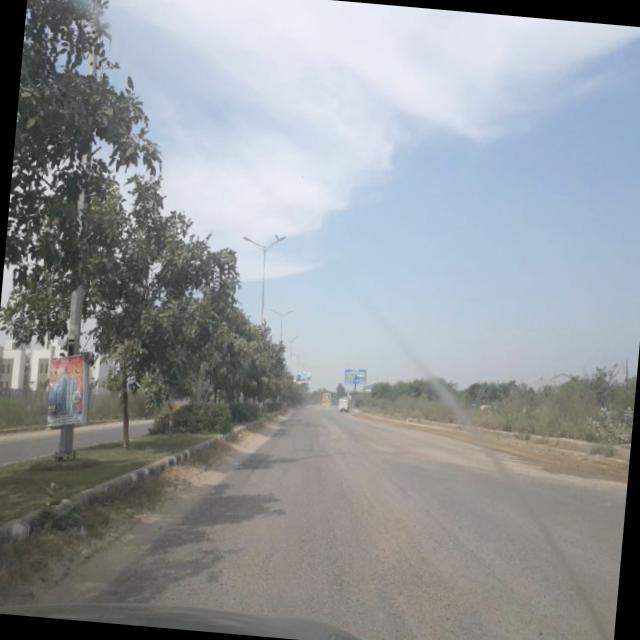pothole: (371, 468, 610, 640), (206, 436, 272, 552), (261, 524, 298, 600)
